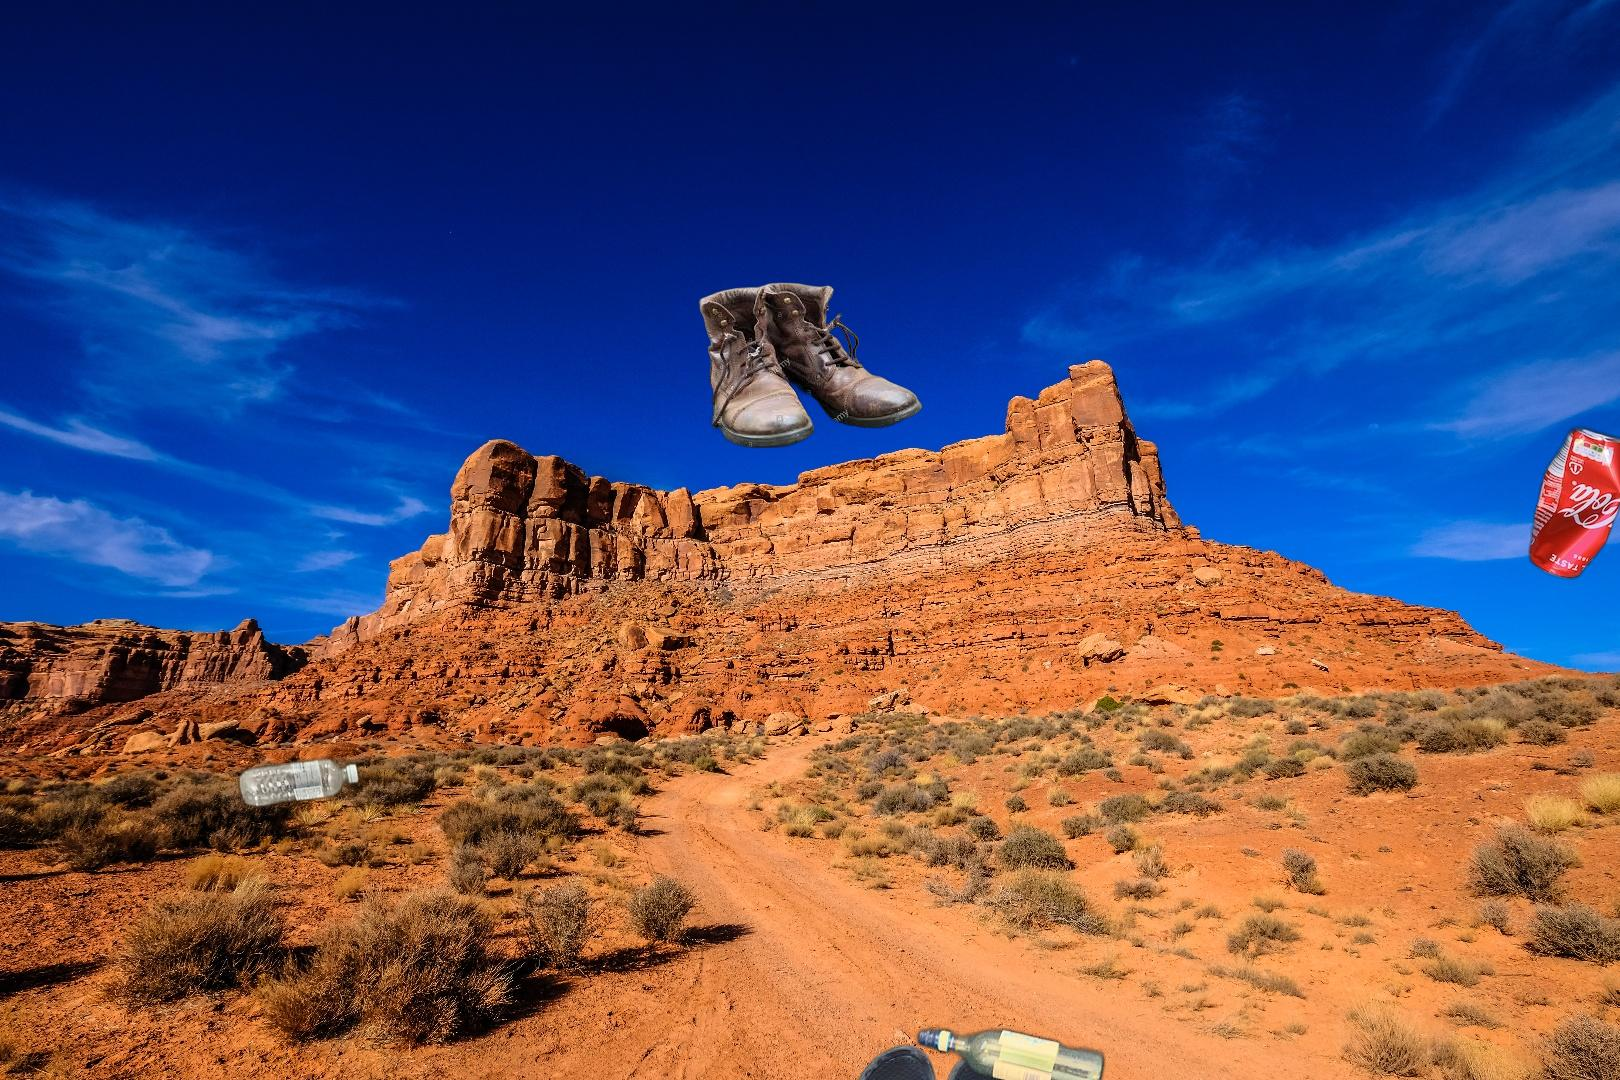glass: (912, 1023, 1110, 1080)
metal-cans: (1524, 422, 1620, 585), (1497, 1000, 1620, 1080)
plastic-bottles: (234, 746, 366, 812)
shoes: (695, 280, 925, 450), (806, 1041, 1032, 1080)
